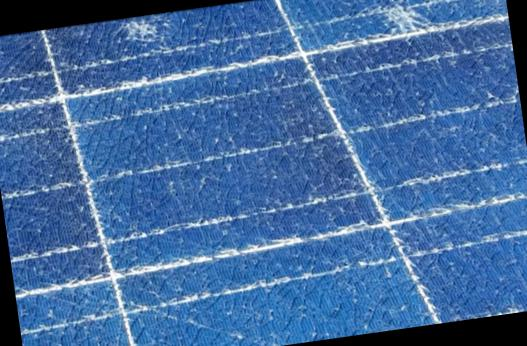Crack: (347, 0, 461, 62), (98, 9, 192, 57)
